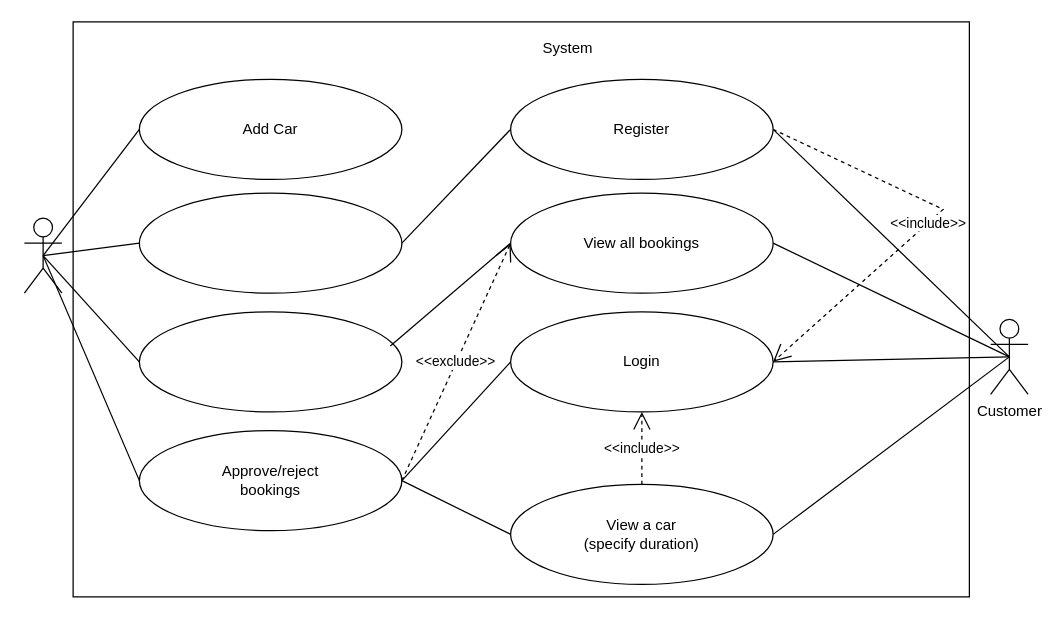
The diagram is 1064 pixels wide and 619 high, and some of its shapes have lost their labels. The centre of each missing label's shape, as x and y in pixels:
"Admin" belongs at (42,255).
"Delete Car" belongs at (270,361).
"Update Car" belongs at (270,242).
